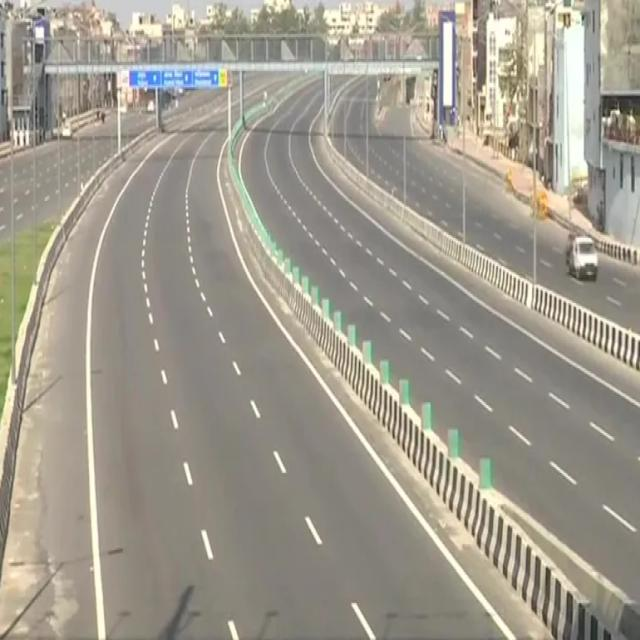Clean road: (0, 220, 640, 640)
